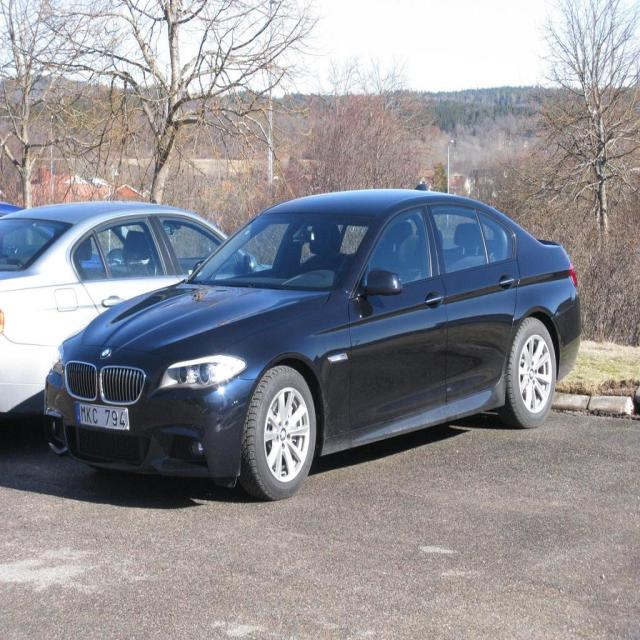car: (43, 181, 582, 498)
